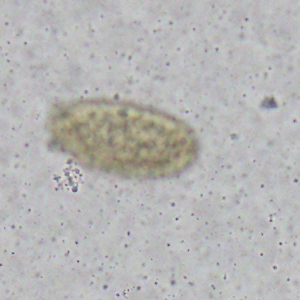Fasciola_hepatica_egg: (47, 100, 201, 179)
